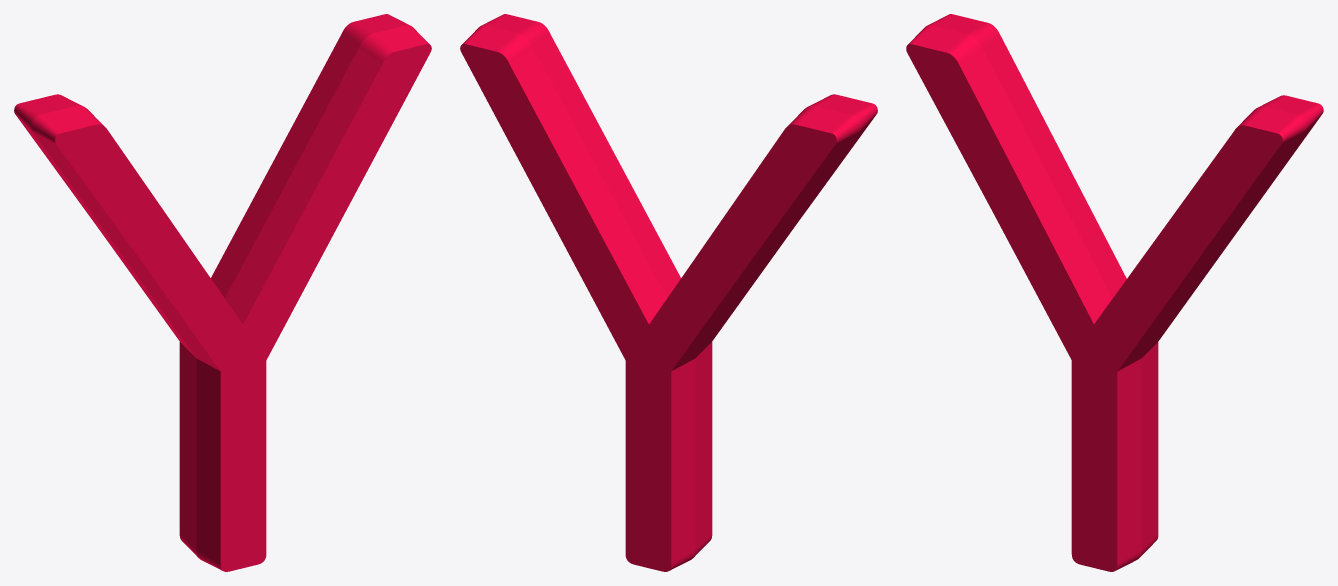
File: Y_Color.FBX
The picture shows the model from 3 angles, left to right: view 1: azimuth 30°, elevation 25°; view 2: azimuth 150°, elevation 25°; view 3: azimuth 330°, elevation 25°; orthographic projection.
Parts seen in each view (by area): view 1: Y_Color; view 2: Y_Color; view 3: Y_Color.
Boxes of the visible parts, x1=… form: Y_Color: x1=14, y1=14, x2=431, y2=571; Y_Color: x1=460, y1=14, x2=877, y2=571; Y_Color: x1=906, y1=14, x2=1323, y2=571.
Bounding box in the file's own units: 70.25 × 85.15 × 13.
